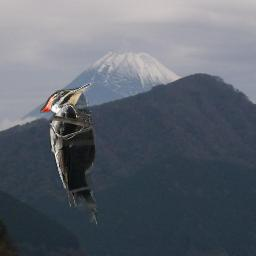Woodpecker: (40, 83, 97, 227)
